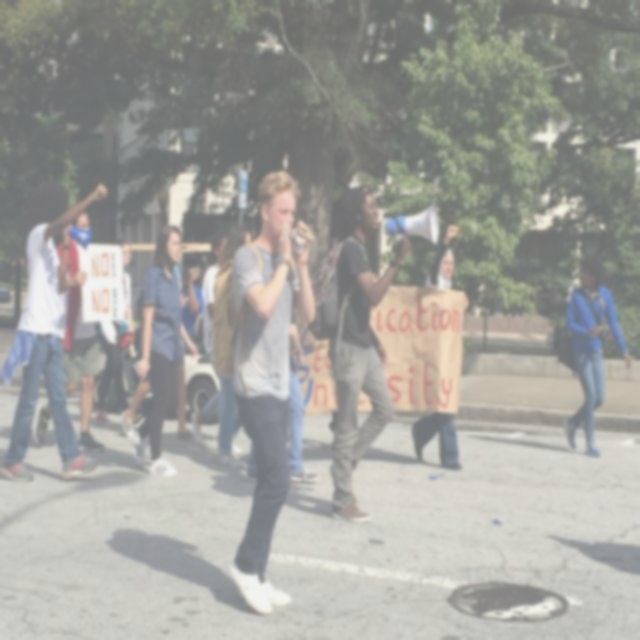pessoa: (225, 167, 318, 615), (305, 180, 413, 522), (0, 178, 109, 483), (33, 207, 129, 452), (126, 221, 200, 478), (127, 228, 200, 442), (560, 252, 632, 458), (245, 295, 321, 485), (411, 224, 469, 471), (190, 230, 243, 456), (106, 526, 247, 610), (92, 236, 144, 428), (214, 223, 252, 468), (182, 255, 204, 354), (284, 490, 332, 525), (210, 470, 255, 502), (359, 446, 421, 468), (95, 447, 143, 473), (300, 436, 332, 462), (551, 324, 568, 356)
